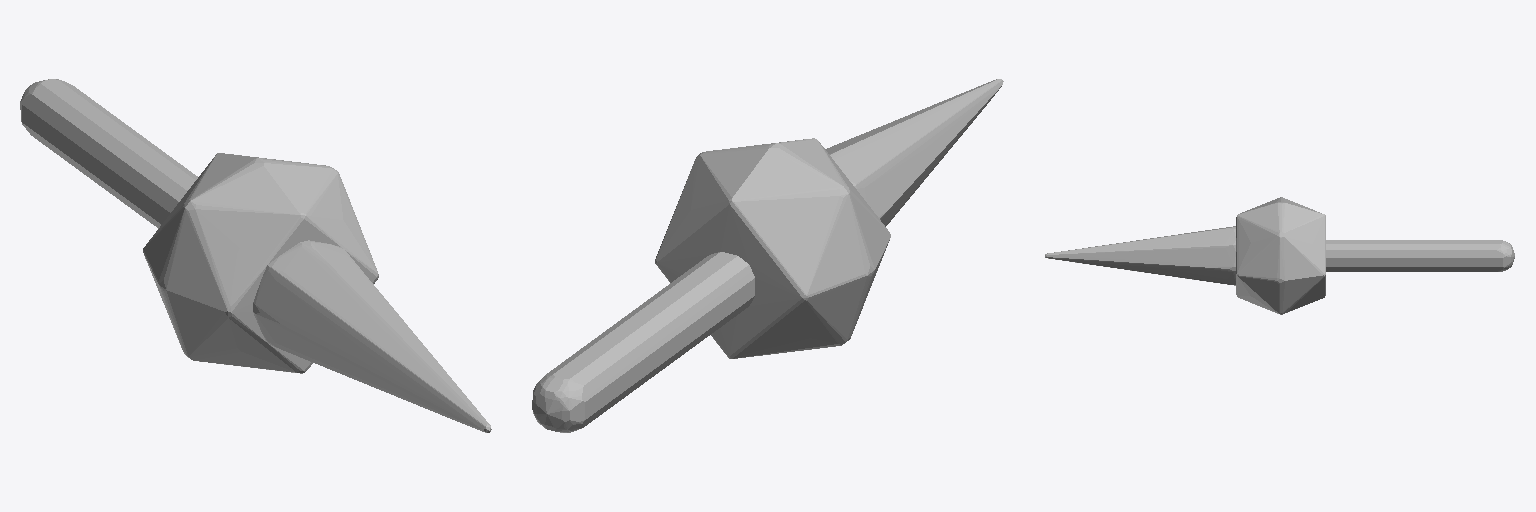
robot.urdf — root:
<?xml version="1.0"?>
<robot name="root">
  <link name="base_link">
    <visual>
      <origin xyz="0 0 0" rpy="0 0 0" />
      <geometry>
        <mesh filename="../meshes/unidex_core_knife-b382ba6ce202434bd3802c3145f560bc_012.obj" scale="1.0000E+00 1.0000E+00 1.0000E+00" />
      </geometry>
      <material name="">
        <color rgba="7.50E-01 7.50E-01 7.50E-01 1" />
      </material>
    </visual>
    <collision>
      <origin xyz="0 0 0" rpy="0 0 0" />
      <geometry>
        <mesh filename="../meshes/unidex_core_knife-b382ba6ce202434bd3802c3145f560bc_012.obj" scale="1.0000E+00 1.0000E+00 1.0000E+00" />
      </geometry>
    </collision>
  </link>
</robot>

--- What the picture shows (computed from the rendered views, not written in the file) ---
The picture shows the robot from 3 angles, left to right: view 1: azimuth 30°, elevation 25°; view 2: azimuth 150°, elevation 25°; view 3: azimuth 270°, elevation 25°; orthographic projection.
Model root with 1 links and 0 joints (none), rooted at base_link, posed all joints at 0.
Links seen in each view (by area): view 1: base_link; view 2: base_link; view 3: base_link.
Link boxes in pixels (x1,y1,x2,y2): base_link: (20,79,491,432); base_link: (532,79,1003,432); base_link: (1045,197,1514,314).
Bounding box of the posed robot: 0.0588 × 0.2353 × 0.0588 m (x, y, z).
Meshes: 1 distinct files referenced, 1 mesh visuals loaded (1 OBJ).
